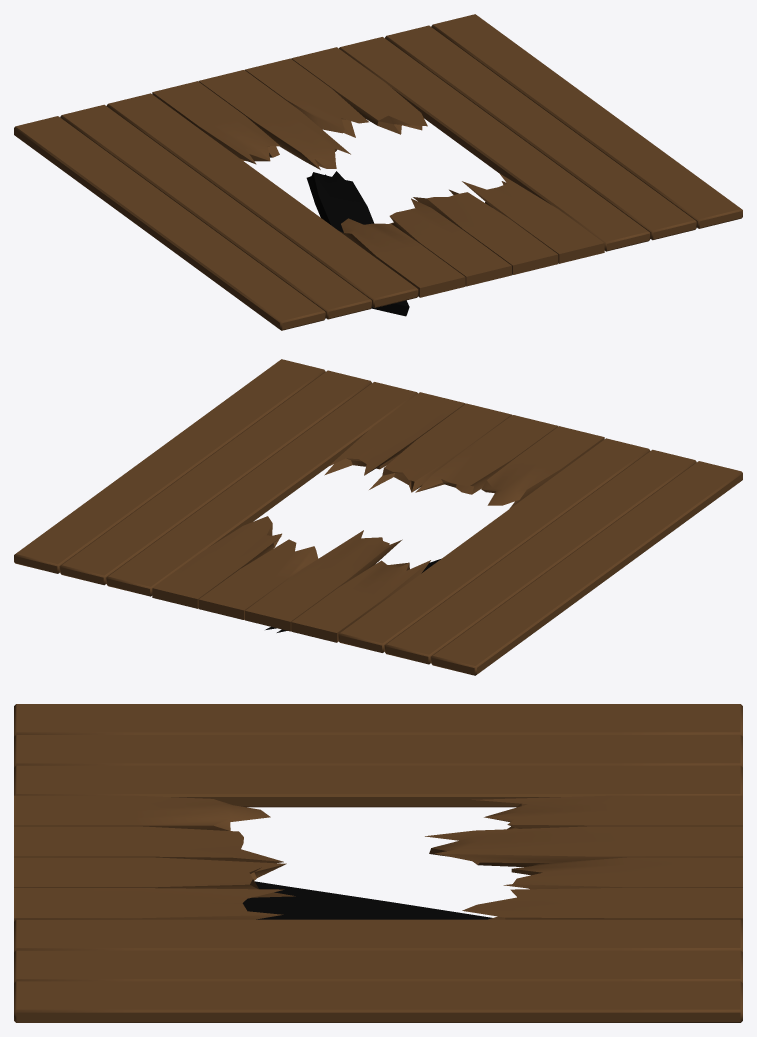
File: boden_2x2_kaputt.glb
3 views of the same model, one above another, from view 1: azimuth 30°, elevation 25°; view 2: azimuth 150°, elevation 25°; view 3: azimuth 270°, elevation 25° (orthographic). The views are drawn at different scales.
Visible parts, largest first — view 1: boden_2x2_kaputt; view 2: boden_2x2_kaputt; view 3: boden_2x2_kaputt.
Part boxes in pixels (x1=…): boden_2x2_kaputt: x1=14, y1=14, x2=742, y2=330; boden_2x2_kaputt: x1=14, y1=359, x2=742, y2=675; boden_2x2_kaputt: x1=14, y1=704, x2=742, y2=1022.
Size of the model in its own units: 2 by 0.3215 by 2.
